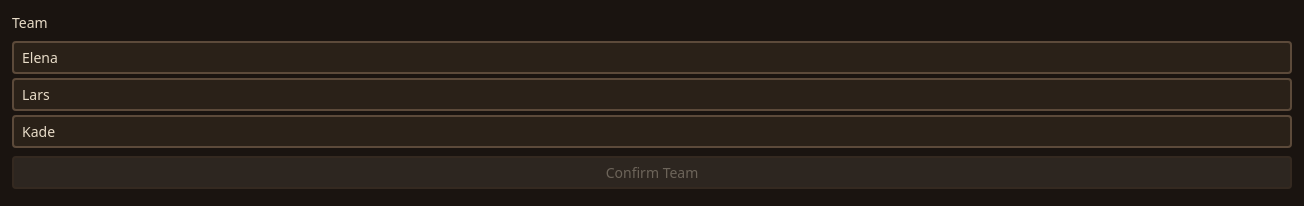
Test: TeamSelector › cannot select 3rd NPC when 2 already selected
The width and height of the screenshot is (1304, 206).
Click the button "Elena".
click(40, 58)  # box [12,41,1292,74]
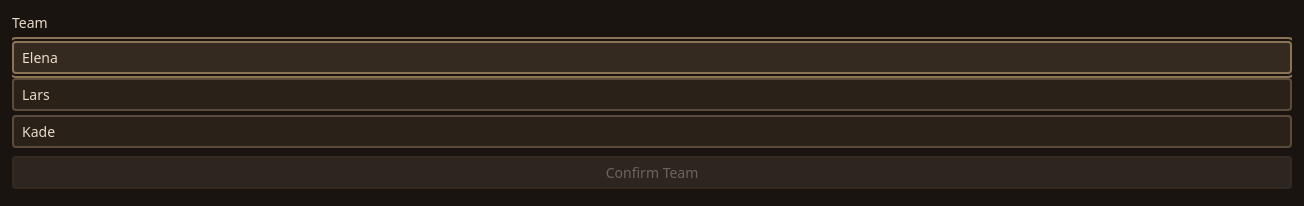
Click the button "Lars".
click(36, 94)  # box [12,78,1292,111]
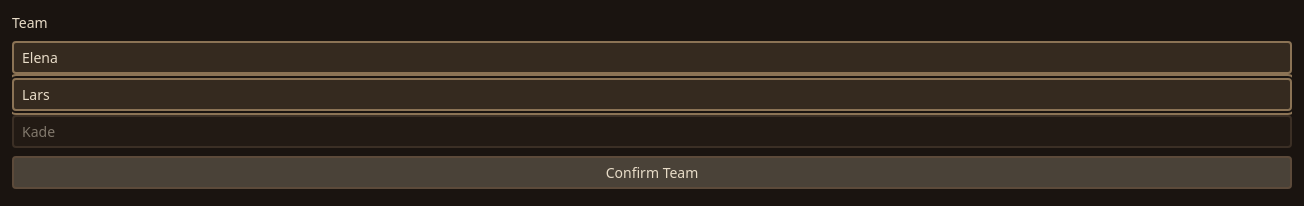
Now the button "Kade" is disabled, box [12,115,1292,148]
